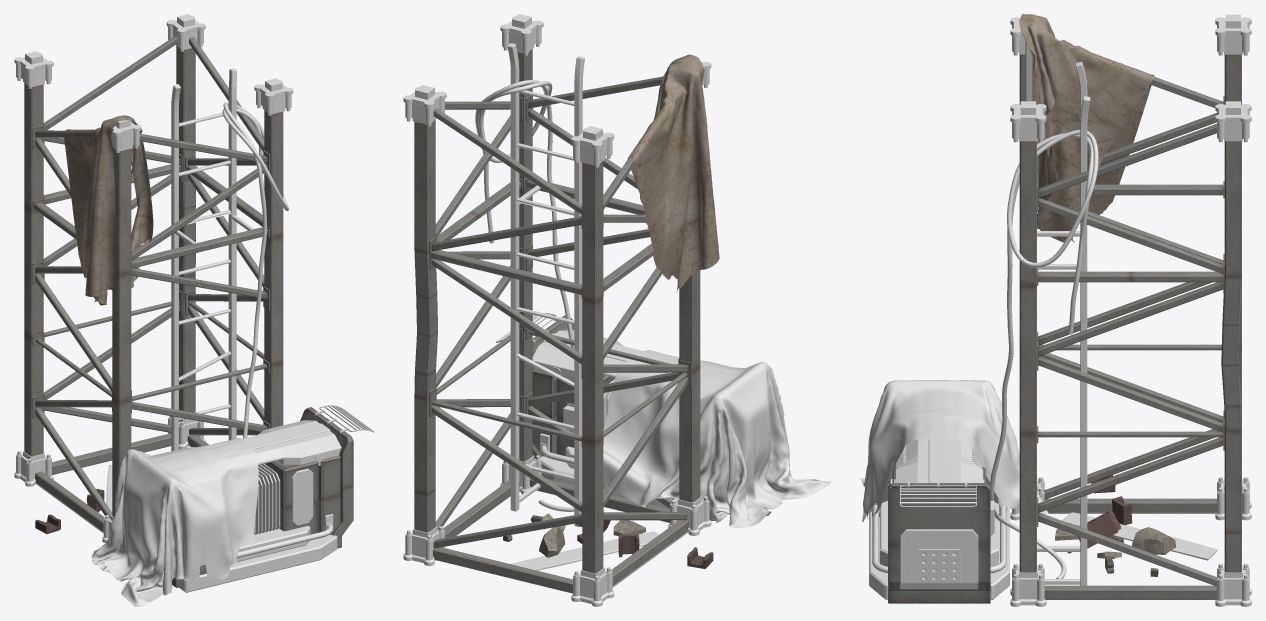
File: PowerGeneratorE.fbx
The picture shows the model from 3 angles, left to right: view 1: azimuth 30°, elevation 25°; view 2: azimuth 150°, elevation 25°; view 3: azimuth 270°, elevation 25°; orthographic projection. The views are drawn at different scales.
Parts seen in each view (by area): view 1: PowerGeneratorE; view 2: PowerGeneratorE; view 3: PowerGeneratorE.
Boxes of the visible parts, box(x1,y1,x2,y2) form: PowerGeneratorE: box(14, 14, 374, 606); PowerGeneratorE: box(403, 14, 831, 606); PowerGeneratorE: box(860, 14, 1251, 606).
Size of the model in its own units: 2.07 by 3.29 by 2.35.
